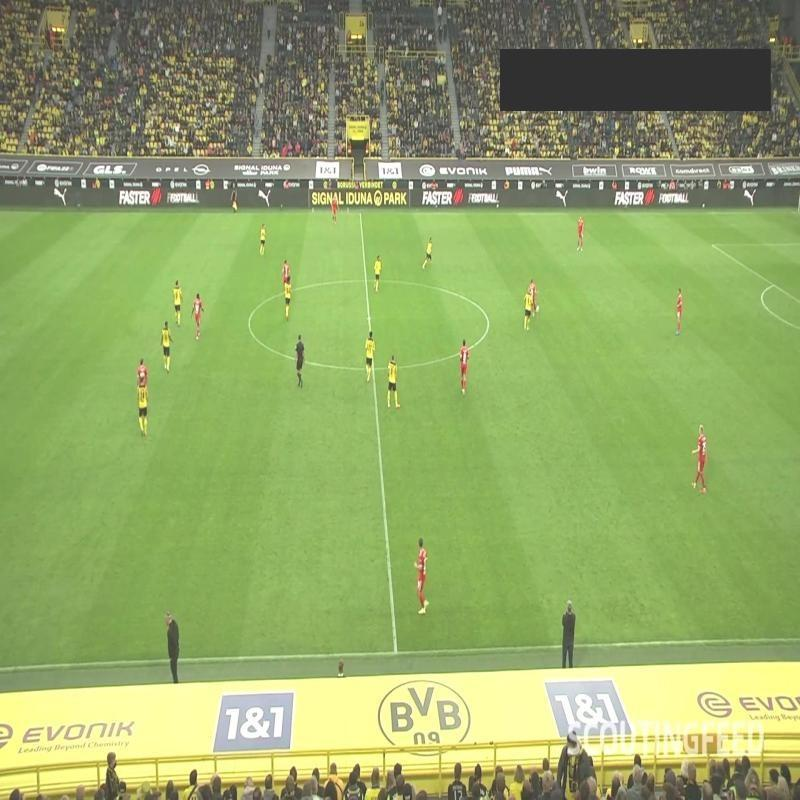10: (766, 278, 781, 292)
13: (354, 206, 368, 220)
14: (358, 274, 372, 288)
15: (366, 363, 380, 377)
16: (387, 641, 405, 662)
9: (706, 239, 720, 252)
c: (480, 312, 498, 332), (243, 312, 256, 333)
